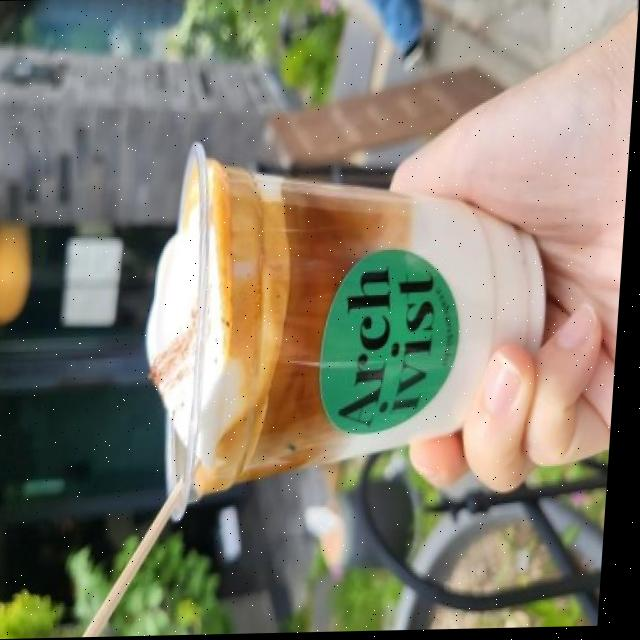cup: (141, 132, 563, 528)
